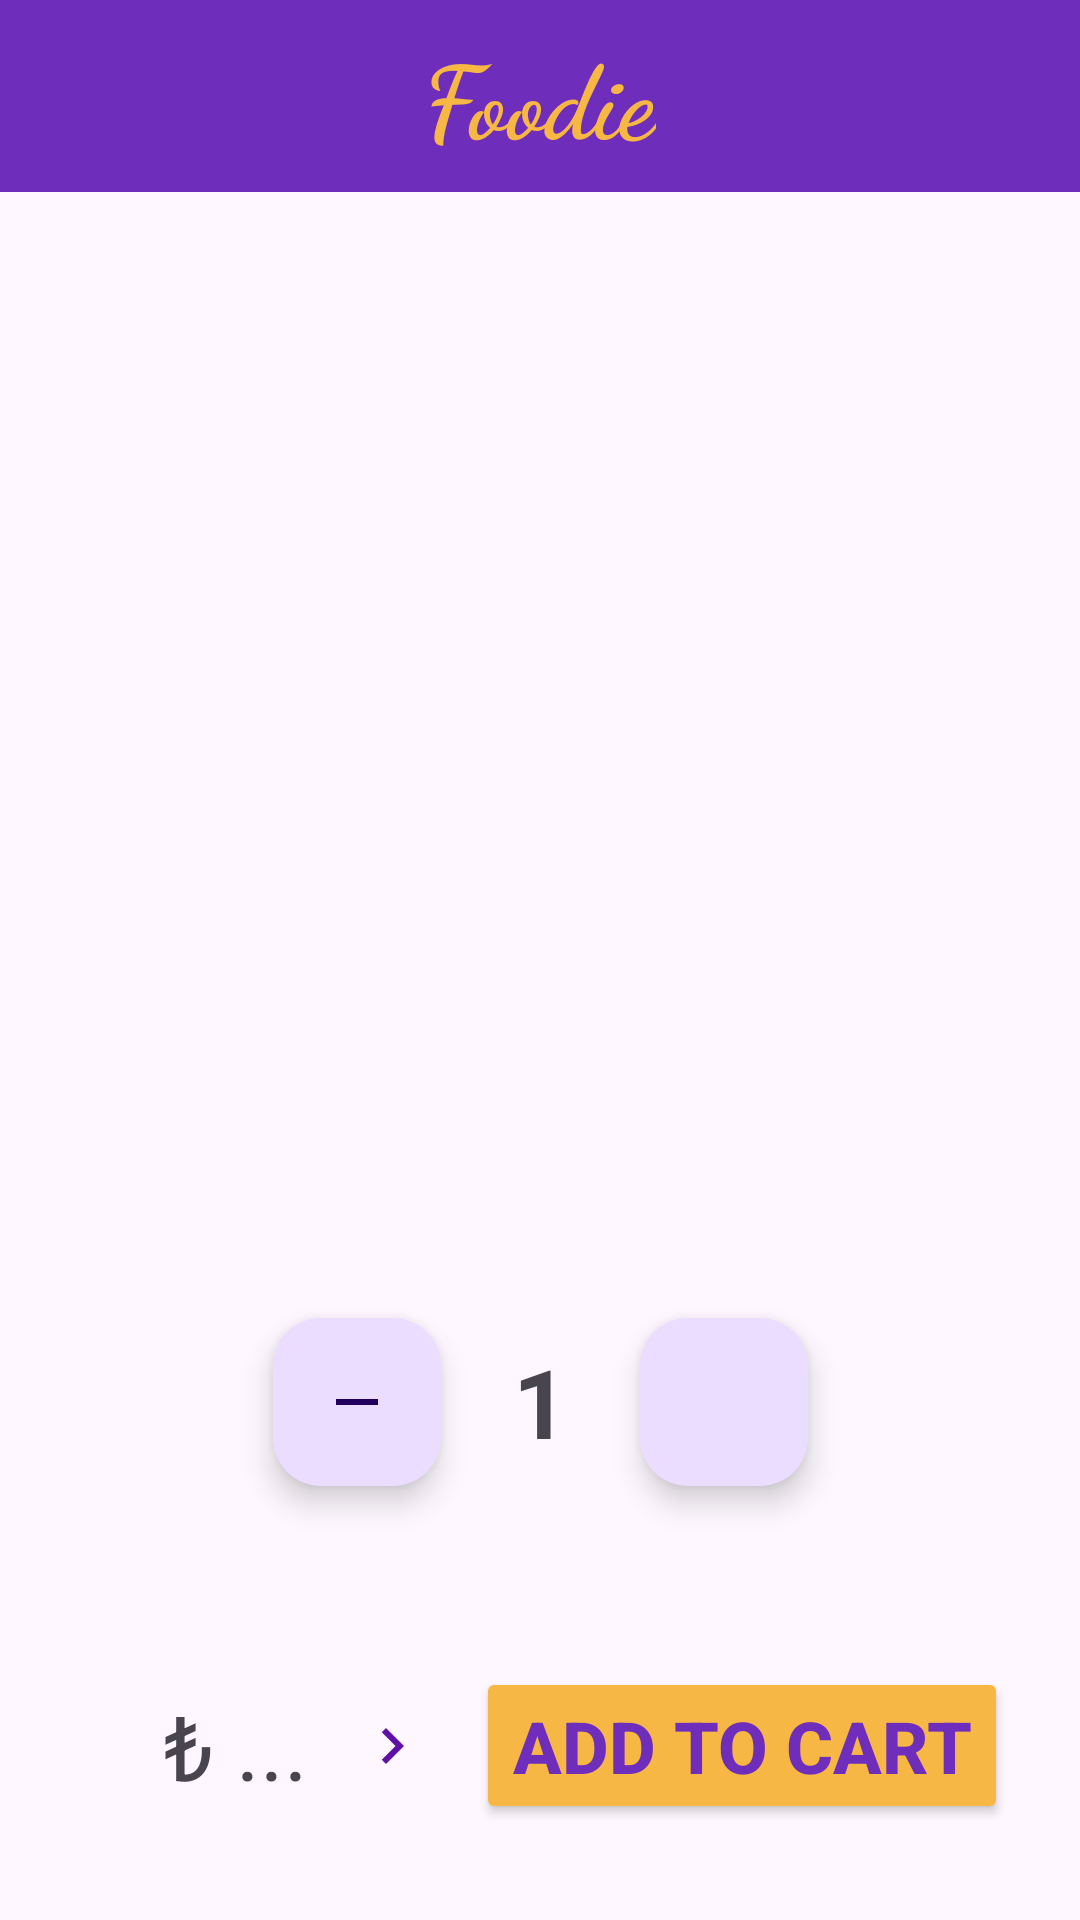

Named icons in this screenshot (1080 × 1920) and their bounding boxes, (x1, y1, x2, y2):
arrow right: (382, 1728, 404, 1764)
Decrease Quantity: (273, 1318, 441, 1486)
